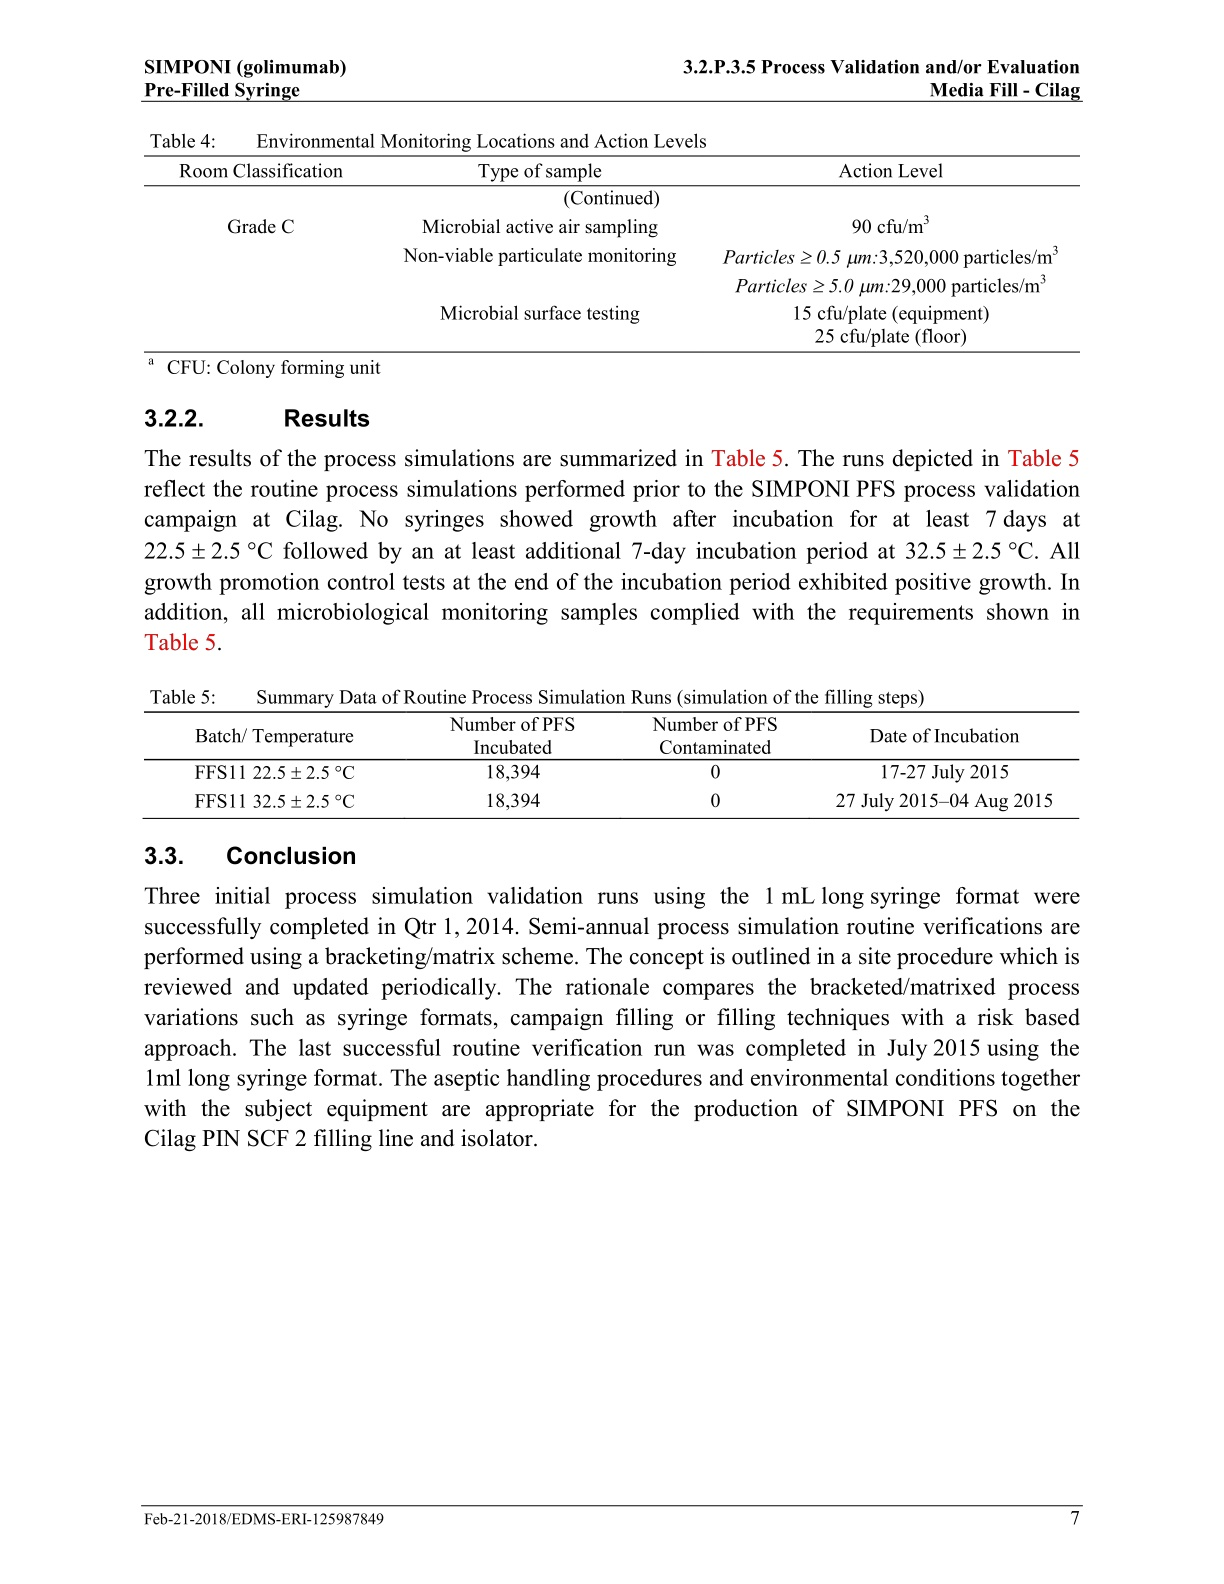partial_lined: (141, 154, 1079, 354), (143, 710, 1080, 820)
